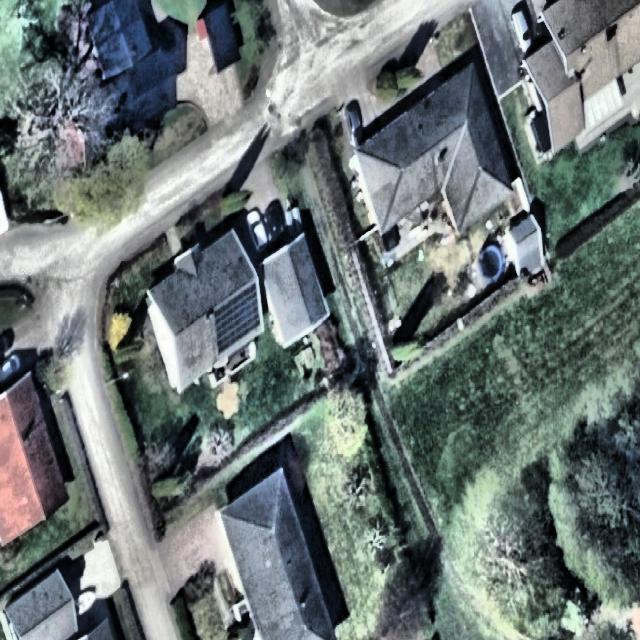roof_pv: (213, 293, 240, 359), (240, 280, 265, 344)
